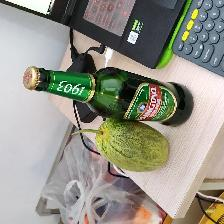gua: (85, 124, 166, 172)
